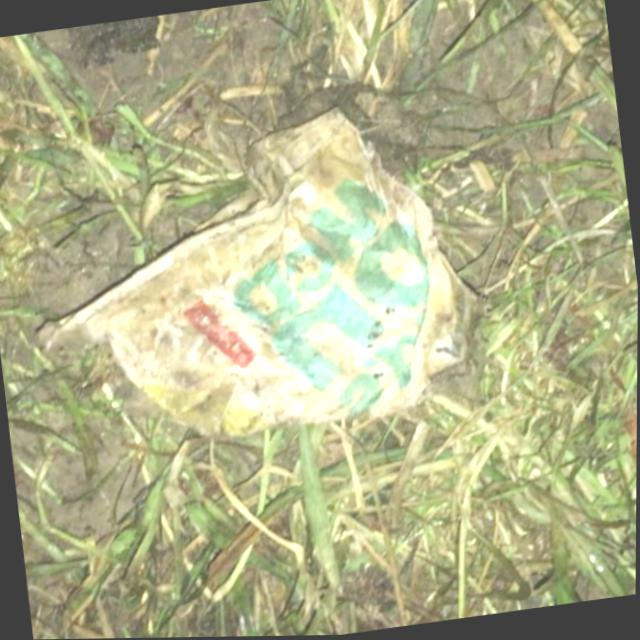Paper: (8, 92, 481, 468)
